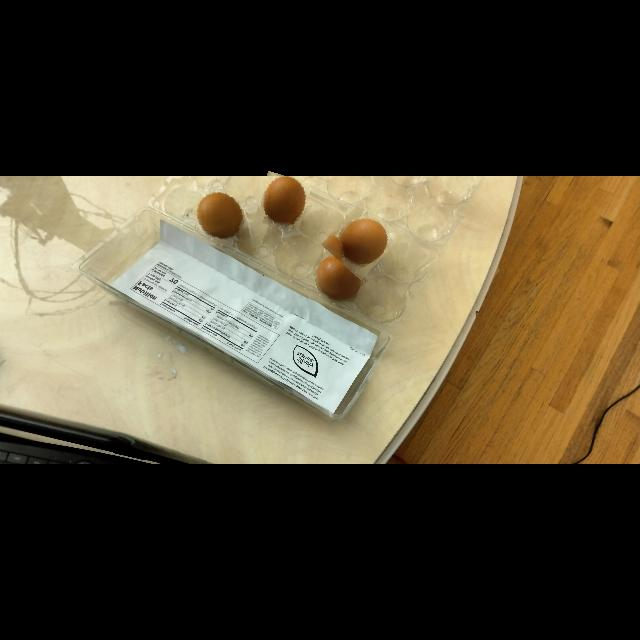Egg: (327, 205, 395, 275), (310, 248, 368, 308), (192, 188, 248, 246), (257, 173, 309, 230)
